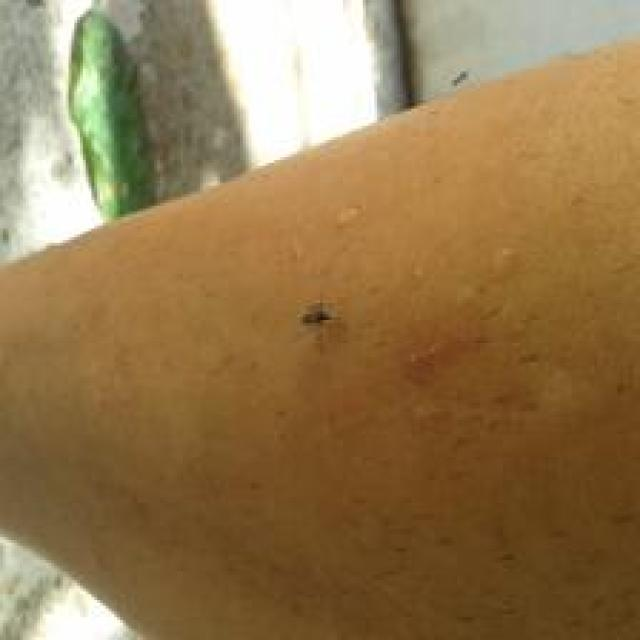Aedes albopictus: (66, 3, 160, 223)
